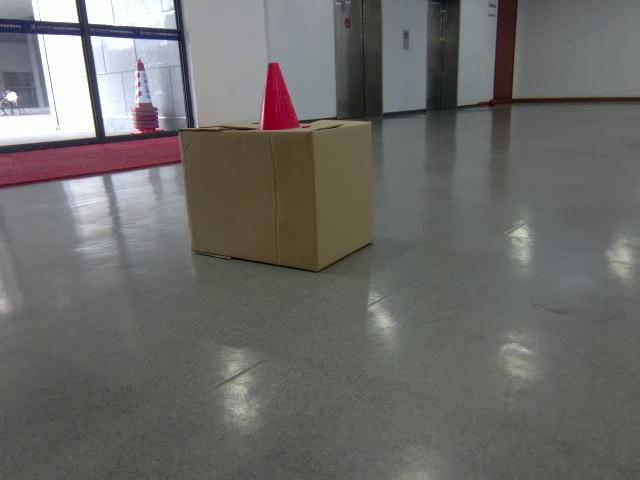red_barrel: (258, 62, 301, 131)
